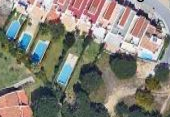pool: (8, 22, 19, 39), (61, 65, 71, 83), (37, 42, 43, 62), (22, 33, 29, 48), (142, 51, 153, 58)
